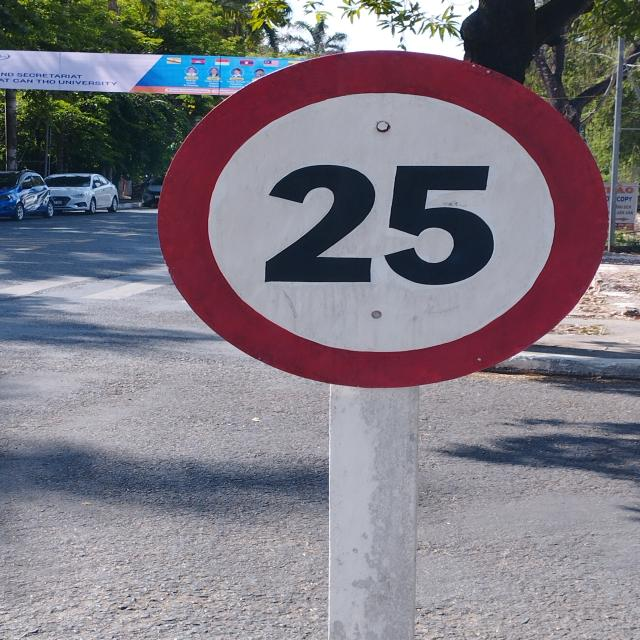Tre_Em: (158, 47, 612, 392)
